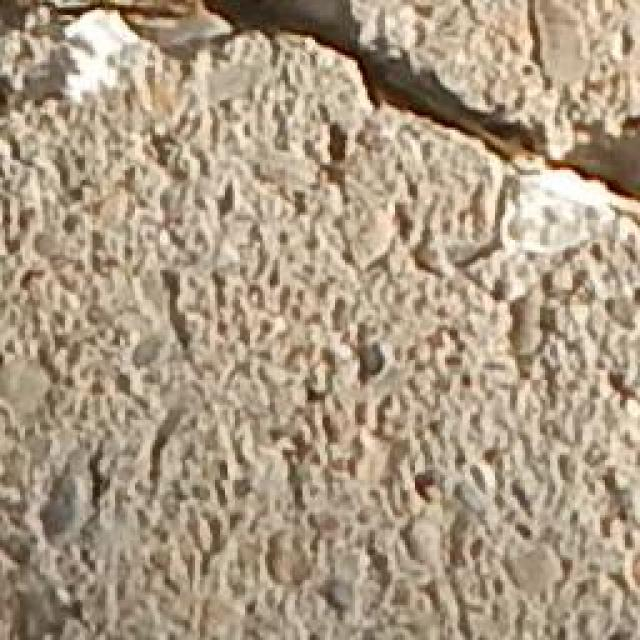concrete-crack: (2, 0, 640, 215)
